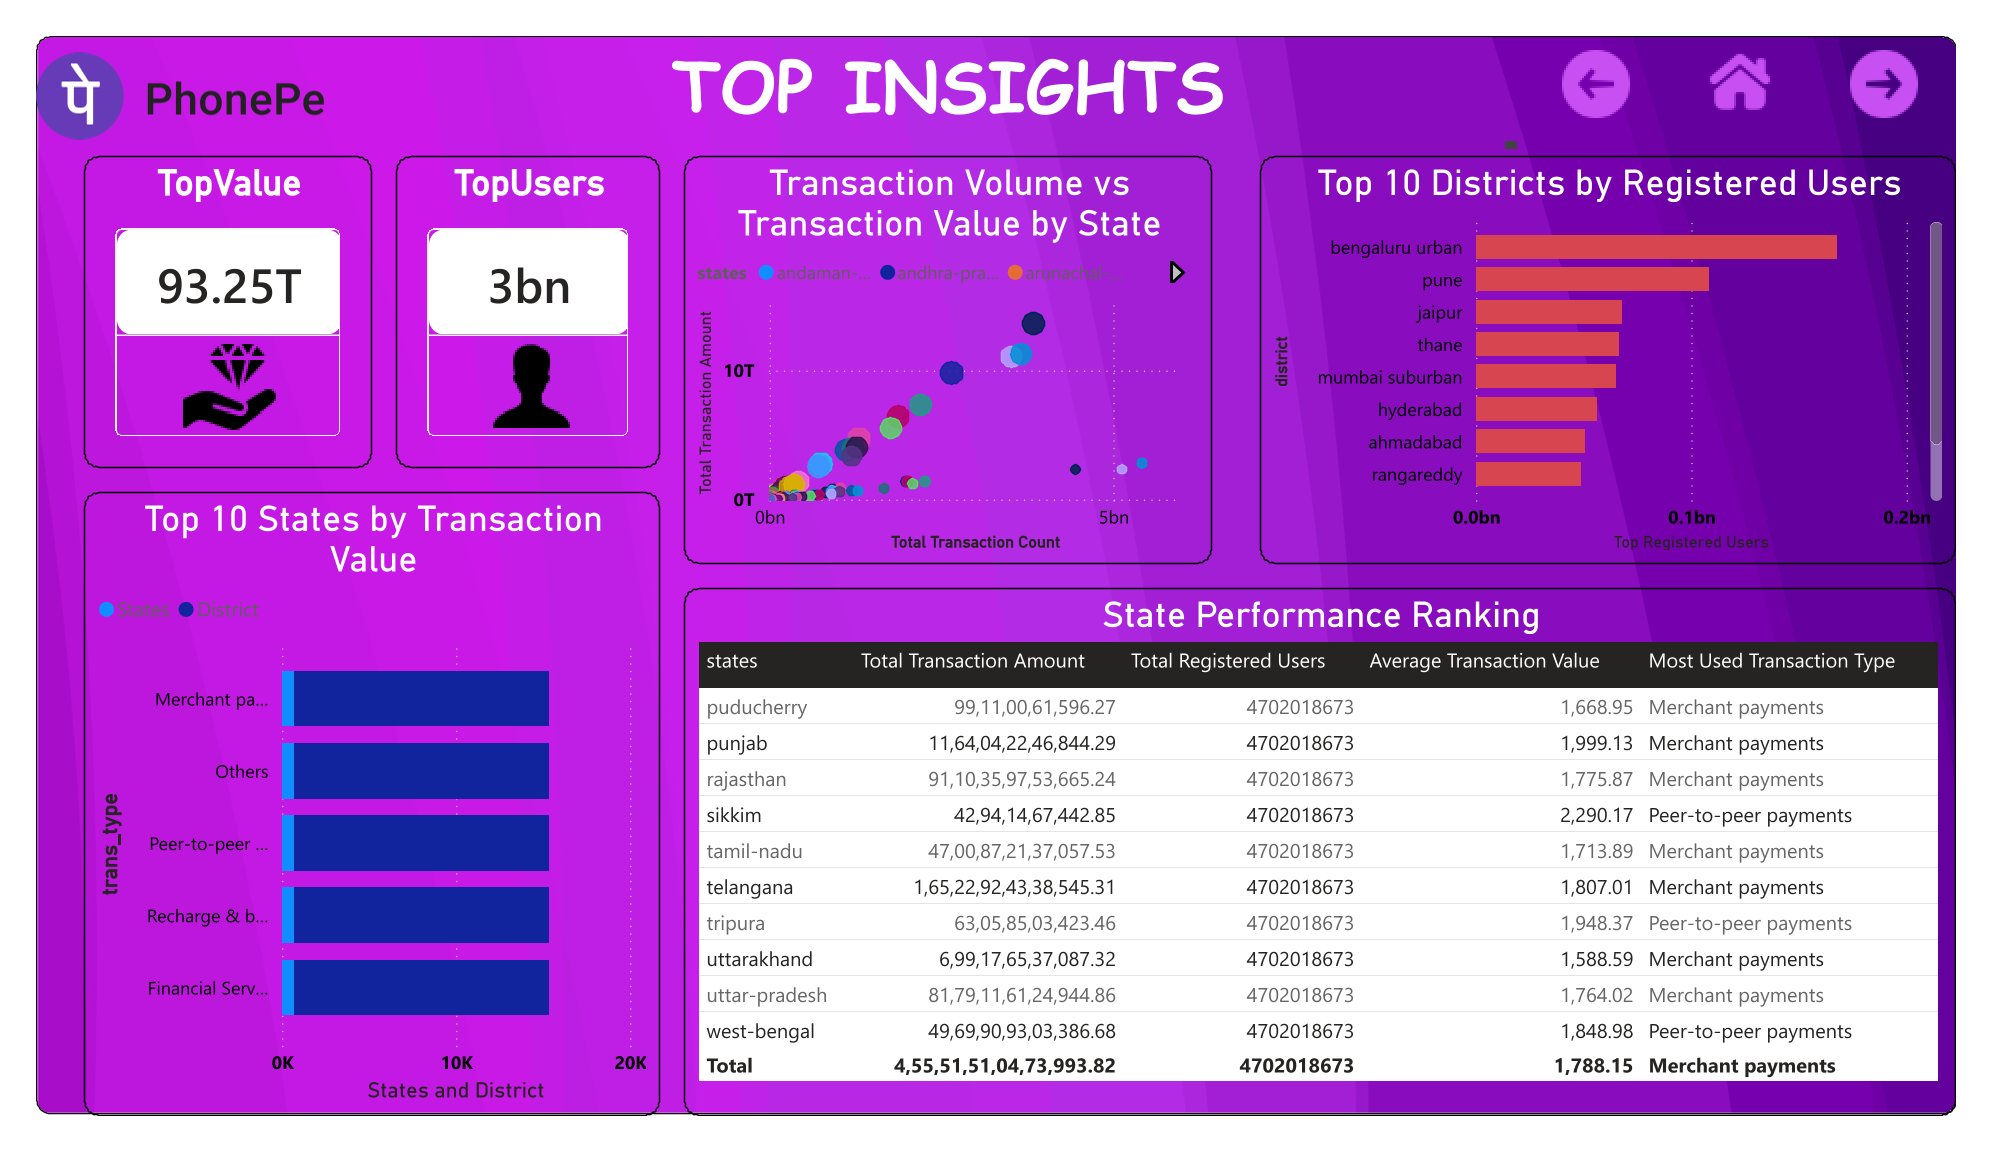

The page's visual inventory and layout, read from the dashboard file:
{"tool":"powerbi","page":{"name":"Top Insights","canvas":[1280,720],"ordinal":3},"visuals":[{"type":"image","box":[0,0,1280.6,719.4],"z":0},{"type":"image","box":[0,0,192,80],"z":1000},{"type":"cardVisual","title":"TopValue","fields":{"Data":["top_transaction.Top Transaction Amount"]},"box":[32,80,192,208],"z":2000},{"type":"cardVisual","title":"TopUsers","fields":{"Data":["top_user.Top Registered Users"]},"box":[240,80,176,208],"z":3000},{"type":"actionButton","box":[1088,0,96,64],"z":4000},{"type":"actionButton","box":[1184,0,96,64],"z":5000},{"type":"actionButton","box":[992,0,96,64],"z":6000},{"type":"textbox","title":"TOP INSIGHTS","box":[224,0,768,80],"z":7000},{"type":"barChart","title":"Top 10 States by Transaction Value","fields":{"Y":["CountNonNull(aggregated_transaction.states)","CountNonNull(map_user.district)"],"Category":["aggregated_transaction.trans_type"]},"box":[32,304,384,416],"z":8000},{"type":"scatterChart","title":"Transaction Volume vs Transaction Value by State","fields":{"X":["aggregated_transaction.Total Transaction Count"],"Y":["aggregated_transaction.Total Transaction Amount"],"Size":["aggregated_transaction.Average Transaction Value"],"Category":["aggregated_transaction.trans_type"],"Series":["aggregated_transaction.states"]},"box":[432,80,352,272],"z":9000},{"type":"clusteredBarChart","title":"Top 10 Districts by Registered Users","fields":{"Y":["top_user.Top Registered Users"],"Category":["top_user.district"]},"box":[816,80,464,272],"z":10000},{"type":"tableEx","title":"State Performance Ranking","fields":{"Values":["aggregated_transaction.states","aggregated_transaction.Total Transaction Amount","map_user.Total Registered Users","aggregated_transaction.Average Transaction Value","aggregated_transaction.Most Used Transaction Type"]},"box":[432,368,848,352],"z":11000}]}

Visuals, with their boxes in screenshot pixels (x1, y1, x2, y2), scaled from the page's 1280x720 canvas onto the 1992x1152 screenshot:
image: bbox=(0, 0, 1991, 1151)
image: bbox=(0, 0, 299, 128)
"TopValue" cardVisual: bbox=(50, 128, 349, 461)
"TopUsers" cardVisual: bbox=(374, 128, 647, 461)
actionButton: bbox=(1693, 0, 1843, 102)
actionButton: bbox=(1843, 0, 1991, 102)
actionButton: bbox=(1544, 0, 1693, 102)
"TOP INSIGHTS" textbox: bbox=(349, 0, 1544, 128)
"Top 10 States by Transaction Value" barChart: bbox=(50, 486, 647, 1151)
"Transaction Volume vs Transaction Value by State" scatterChart: bbox=(672, 128, 1220, 563)
"Top 10 Districts by Registered Users" clusteredBarChart: bbox=(1270, 128, 1991, 563)
"State Performance Ranking" tableEx: bbox=(672, 589, 1991, 1151)
